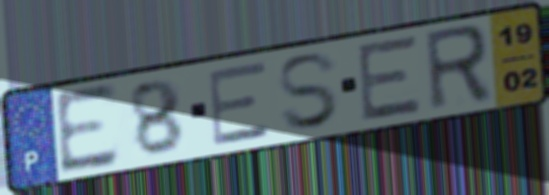8: (127, 77, 187, 157)
E: (51, 79, 122, 179), (356, 32, 425, 125), (205, 58, 275, 149)
R: (420, 21, 496, 116)
S: (274, 49, 344, 133)
